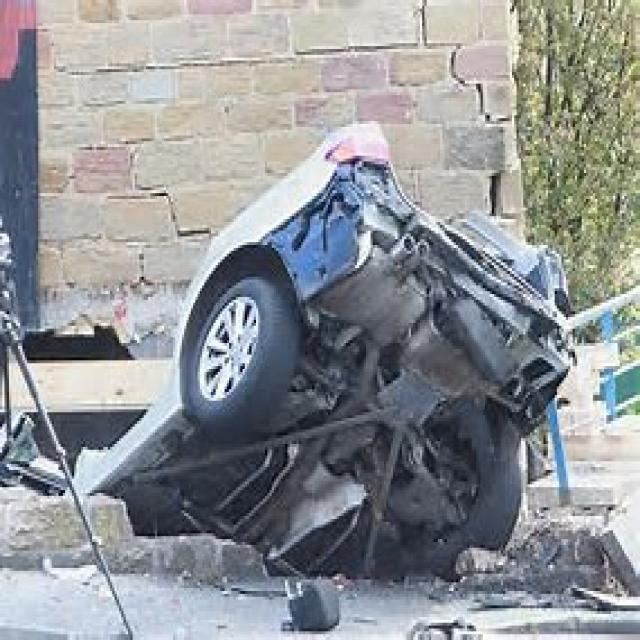Accident: (90, 74, 585, 592)
